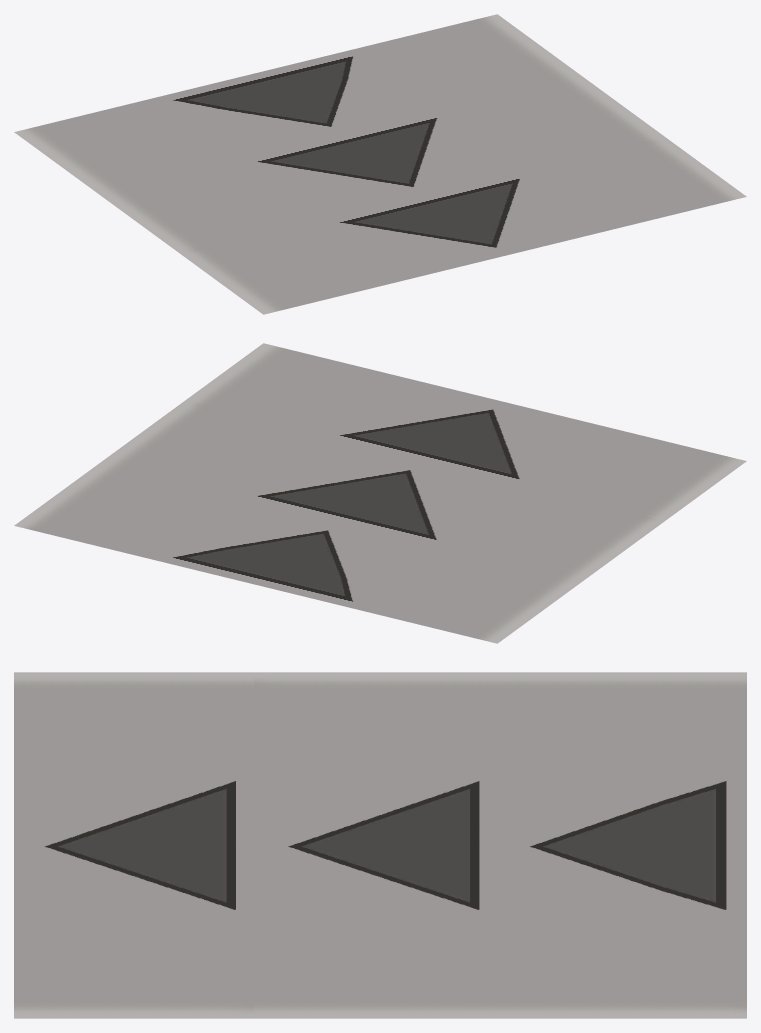
File: ThePass_Scrolling.fbx
3 renders of one model, top to bottom at view 1: azimuth 30°, elevation 25°; view 2: azimuth 150°, elevation 25°; view 3: azimuth 270°, elevation 25°, orthographic. The views are drawn at different scales.
Parts seen in each view (by area): view 1: ThePass_Scrolling; view 2: ThePass_Scrolling; view 3: ThePass_Scrolling.
Part boxes in pixels (x1,y1,x2,y2): ThePass_Scrolling: [14, 14, 746, 314]; ThePass_Scrolling: [14, 343, 746, 643]; ThePass_Scrolling: [14, 672, 746, 1018].
Bounding box in the file's own units: 2.01 × 0 × 1.8.
